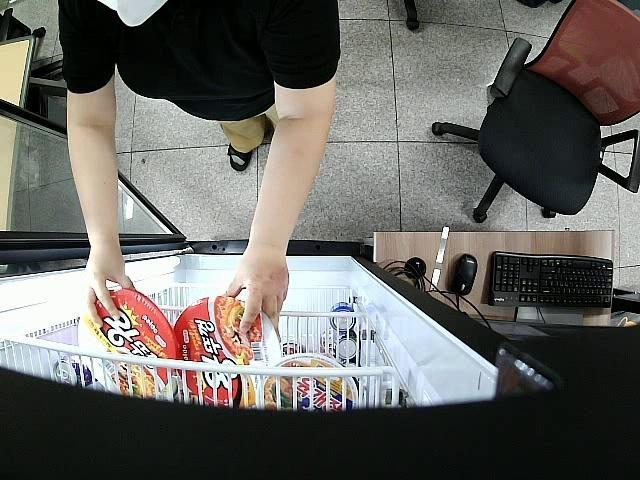10_wangTtukkeong: (178, 294, 282, 404), (80, 290, 174, 395)
